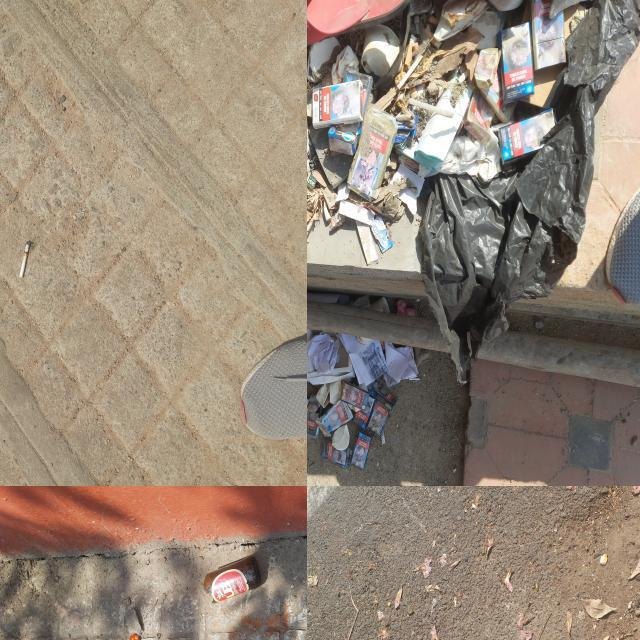Background: (307, 486, 640, 640), (0, 486, 307, 640), (233, 582, 234, 583)
Cig_bud: (396, 54, 423, 90), (19, 241, 31, 278), (425, 28, 442, 48), (404, 39, 414, 66), (458, 69, 469, 84), (397, 114, 414, 121), (428, 15, 438, 23), (413, 42, 418, 53)
Cig_pack: (348, 108, 398, 201), (498, 109, 555, 165), (499, 23, 533, 103), (353, 382, 398, 436), (532, 0, 566, 70), (313, 81, 363, 128), (464, 89, 494, 145), (316, 400, 353, 433), (371, 382, 398, 411), (321, 439, 349, 466), (367, 402, 389, 436), (351, 433, 371, 468), (354, 397, 375, 429), (342, 384, 368, 409), (399, 153, 419, 174), (307, 411, 319, 438), (342, 385, 358, 404), (370, 394, 372, 395)
Garbage: (307, 0, 640, 382), (307, 330, 418, 468)
Glass_bottle: (204, 556, 261, 602)
Metal: (129, 634, 141, 640)
Plastic: (307, 0, 408, 45)
Plastic_Bag: (420, 0, 640, 384), (478, 591, 479, 593)
Plastic_Straw: (406, 98, 455, 118)
Plastic_wraper: (371, 216, 393, 253), (394, 114, 418, 147)
Tetrapack: (347, 70, 372, 114), (328, 123, 362, 155)
